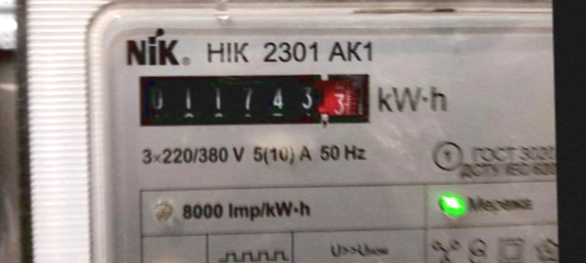0: (148, 83, 162, 111)
1: (209, 82, 221, 110), (180, 82, 190, 110)
3: (298, 82, 312, 110), (329, 91, 344, 116)
4: (268, 83, 282, 110)
7: (238, 81, 253, 109)
screen: (125, 59, 380, 139)
